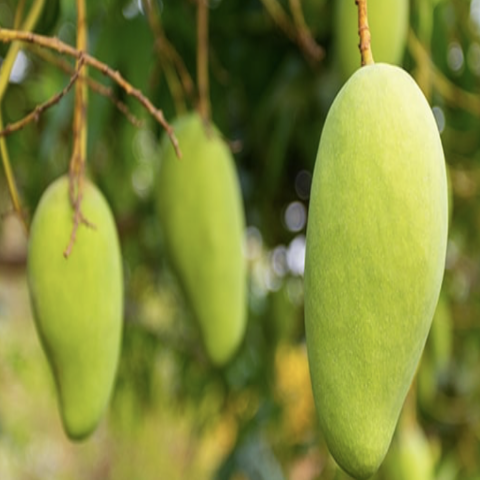mango: (281, 51, 473, 480), (142, 104, 260, 384), (15, 166, 127, 448)
